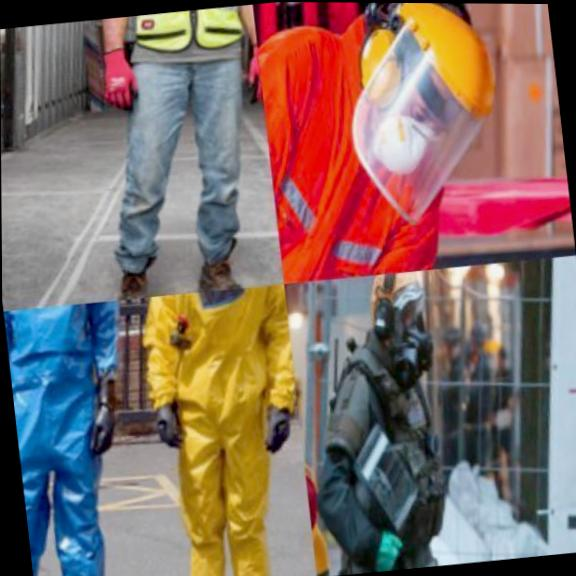safety_vest: (254, 2, 491, 284), (122, 283, 316, 576), (3, 298, 158, 576), (303, 374, 479, 567), (127, 3, 257, 64)
